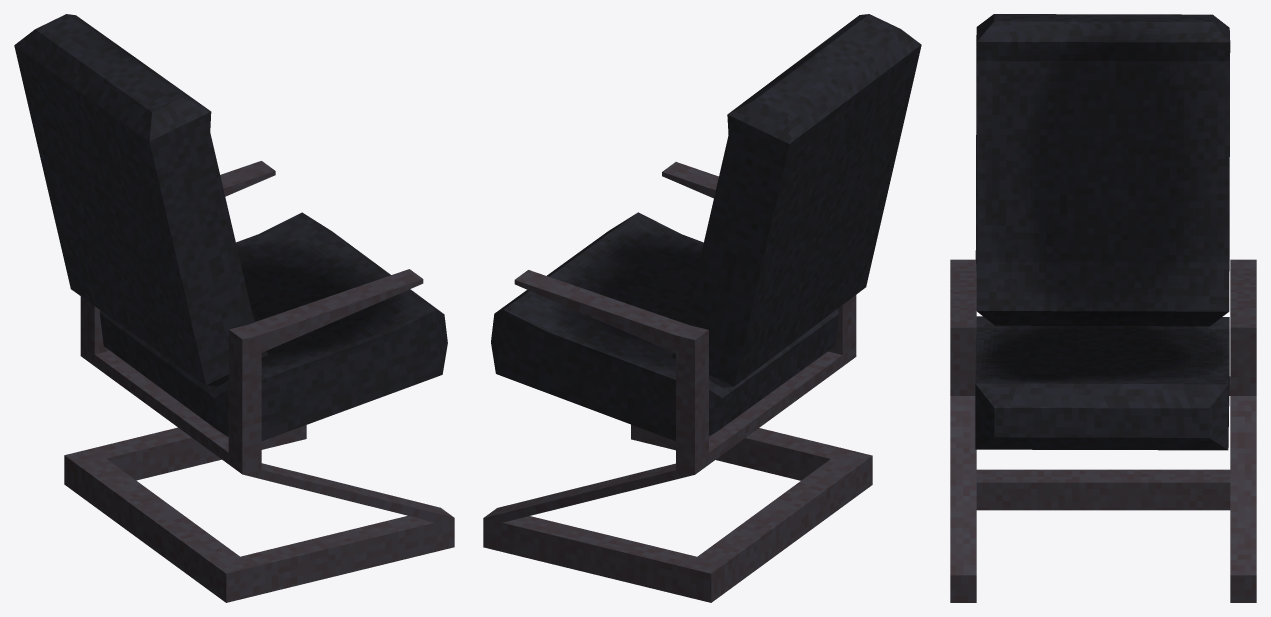
Rendered from Chair 1.fbx.
The picture shows the model from 3 angles, left to right: view 1: azimuth 30°, elevation 25°; view 2: azimuth 150°, elevation 25°; view 3: azimuth 270°, elevation 25°; orthographic projection. The views are drawn at different scales.
Parts seen in each view (by area): view 1: Chair; view 2: Chair; view 3: Chair.
Part boxes in pixels (x1=…): Chair: x1=14, y1=14, x2=454, y2=602; Chair: x1=483, y1=14, x2=921, y2=602; Chair: x1=950, y1=14, x2=1256, y2=602.
Size of the model in its own units: 66.71 by 101 by 60.26.
2 materials, 2 textured.
